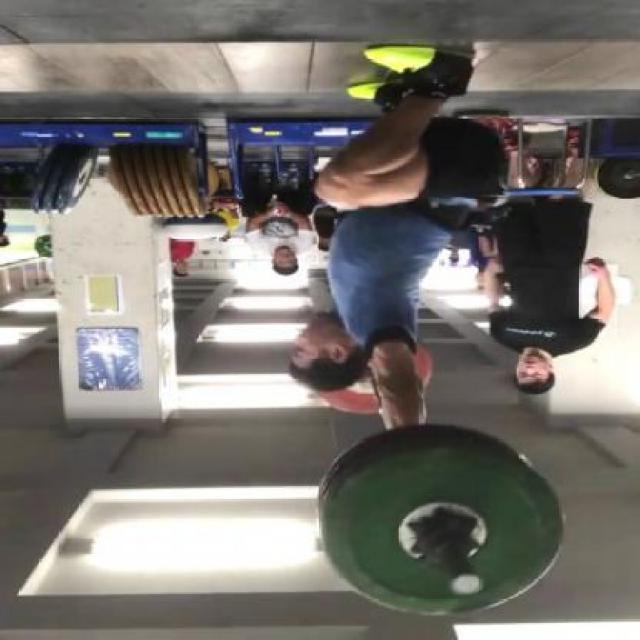Barbell: (445, 570, 490, 599)
